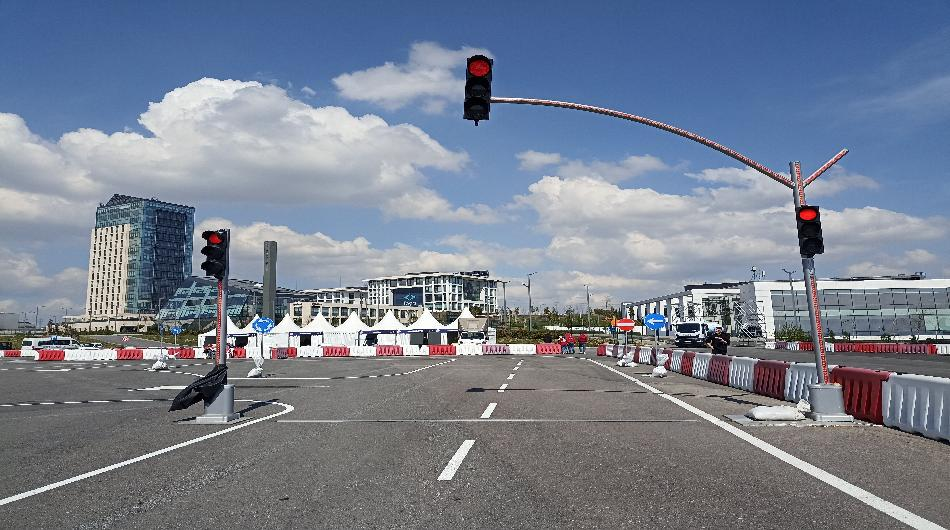red_light: (464, 50, 499, 125), (195, 226, 238, 285), (794, 204, 829, 259)
